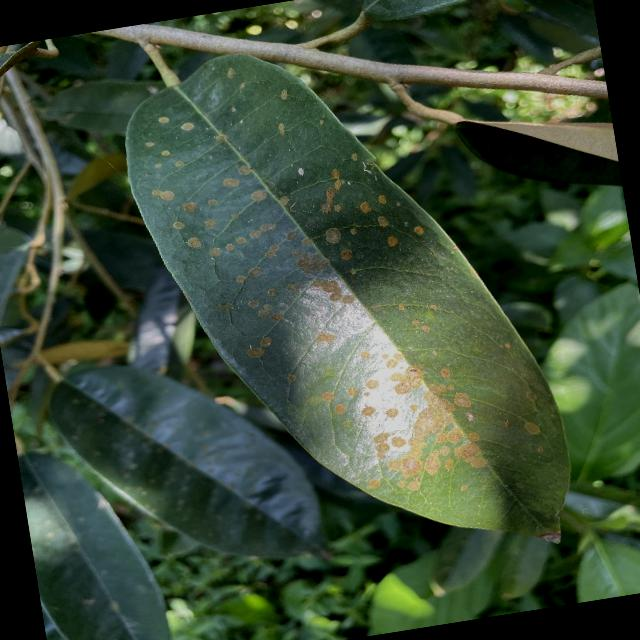Algal Leaf Spot: (101, 0, 594, 609)
